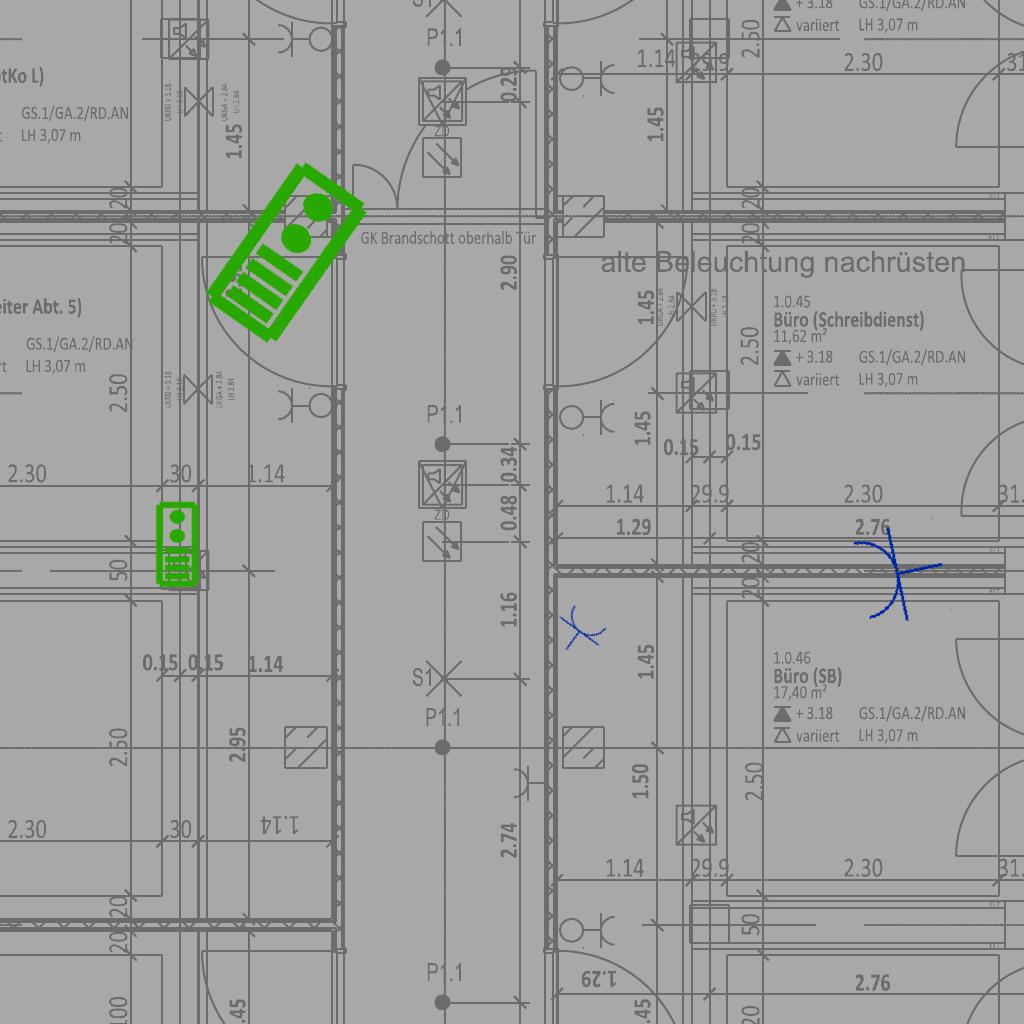Gegensprechanlage_mit_Video: (196, 151, 375, 351), (153, 500, 200, 588)
Schukosteckdose_einfach: (847, 514, 953, 631), (546, 600, 612, 665)
